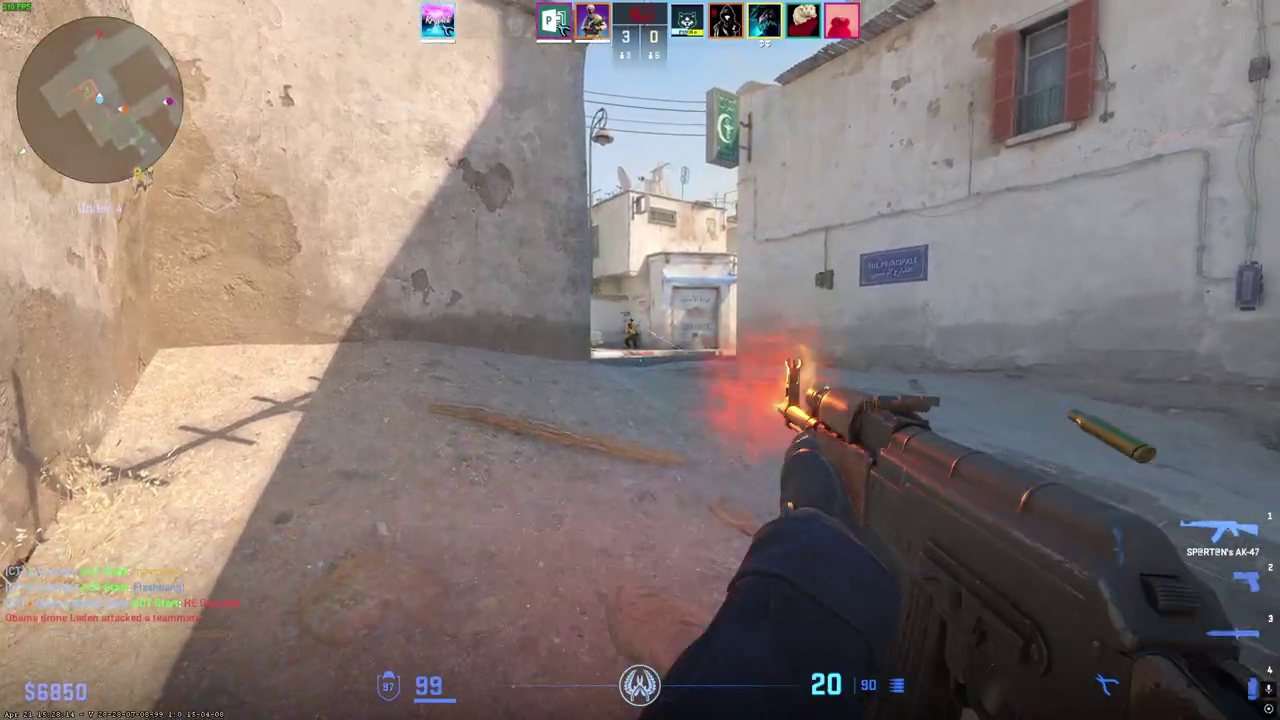Terrorist: (624, 323, 639, 349)
